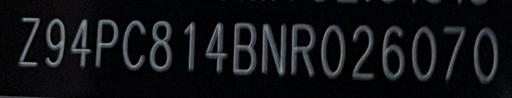letter: (470, 25, 500, 85), (440, 22, 468, 80), (410, 24, 438, 82), (230, 20, 258, 76), (260, 21, 288, 77), (92, 16, 120, 71), (290, 22, 318, 76), (319, 23, 347, 77), (380, 22, 406, 80), (120, 18, 148, 71), (202, 20, 230, 73), (350, 23, 376, 79), (148, 18, 174, 70), (68, 16, 92, 70), (18, 15, 42, 68), (43, 16, 67, 68), (180, 17, 198, 71)
